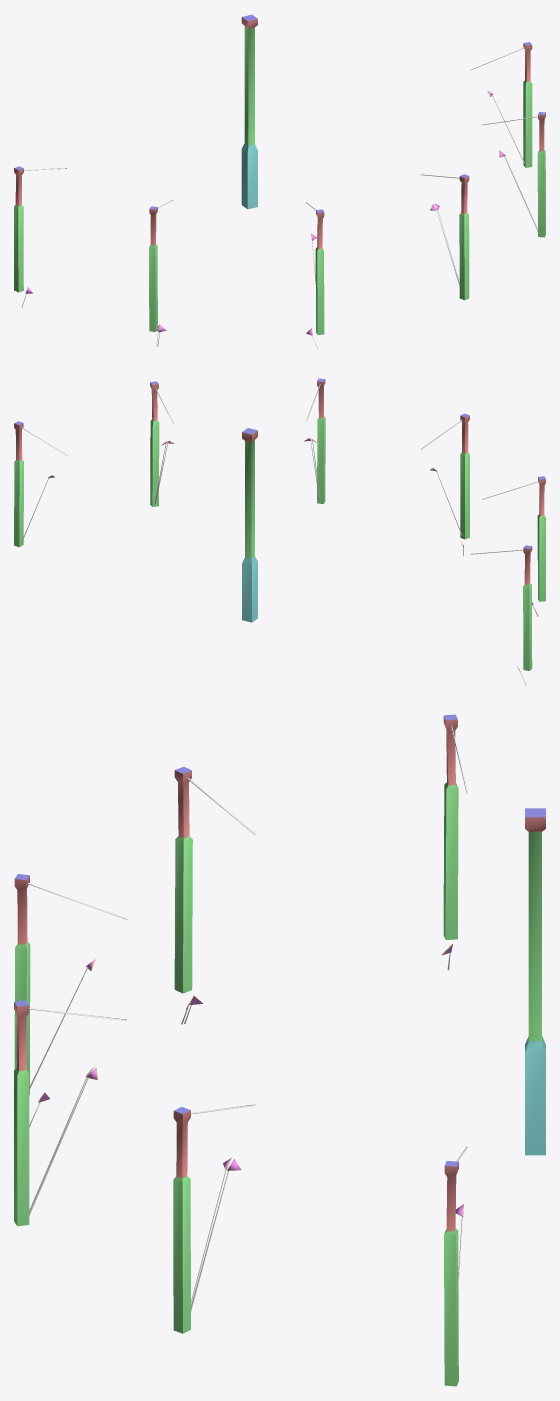
Rendered from L2fortress_02_s__Fort02_medic_pole.gltf.
3 renders of one model, top to bottom at view 1: azimuth 30°, elevation 25°; view 2: azimuth 150°, elevation 25°; view 3: azimuth 270°, elevation 25°, orthographic. The views are drawn at different scales.
Visible parts, largest first — view 1: Fort02_medic_pole; view 2: Fort02_medic_pole; view 3: Fort02_medic_pole.
Part boxes in pixels (x1,y1,x2,y2): Fort02_medic_pole: (14,14,545,349); Fort02_medic_pole: (14,378,545,685); Fort02_medic_pole: (14,714,545,1386).
Bounding box in the file's own units: 11.34 × 4.42 × 5.64.
